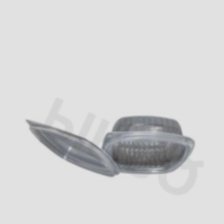plastic_box: (18, 109, 200, 186)
